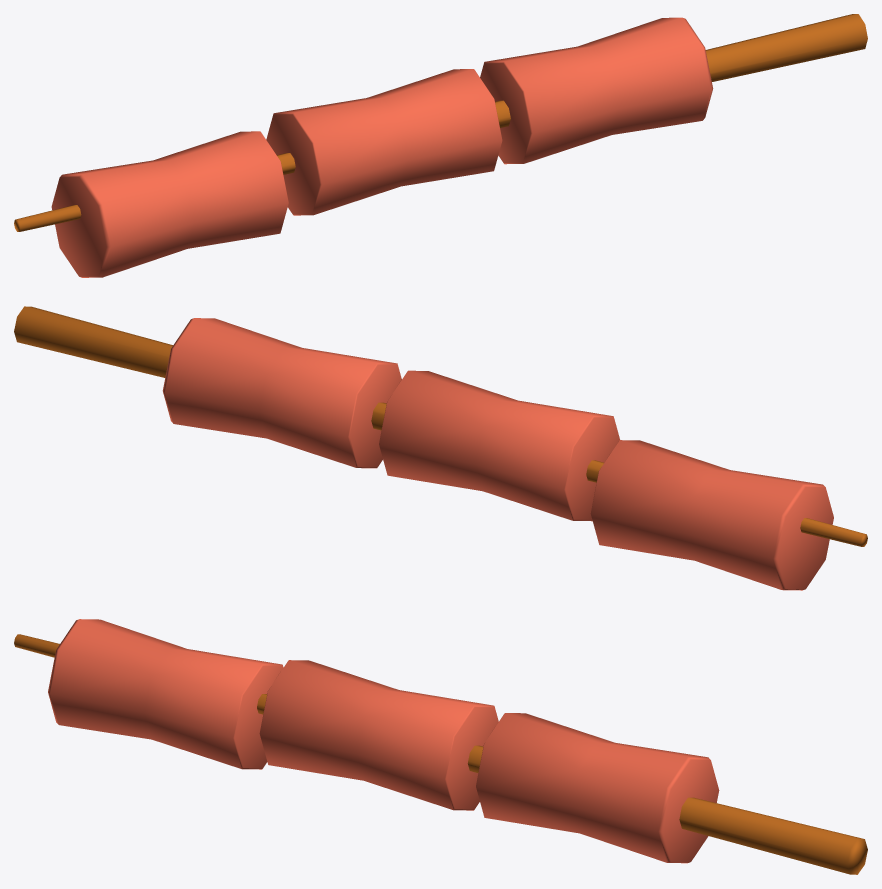
Rendered from SM_Barbecue.fbx.
3 views of the same model, one above another, from view 1: azimuth 30°, elevation 25°; view 2: azimuth 150°, elevation 25°; view 3: azimuth 330°, elevation 25° (orthographic). The views are drawn at different scales.
Parts seen in each view (by area): view 1: SM_Barbecue; view 2: SM_Barbecue; view 3: SM_Barbecue.
Part boxes in pixels (box(x1,y1,x2,y2)): SM_Barbecue: box(14, 14, 867, 277); SM_Barbecue: box(14, 306, 867, 590); SM_Barbecue: box(14, 619, 867, 874).
Bounding box in the file's own units: 27.98 × 3.55 × 3.78.
